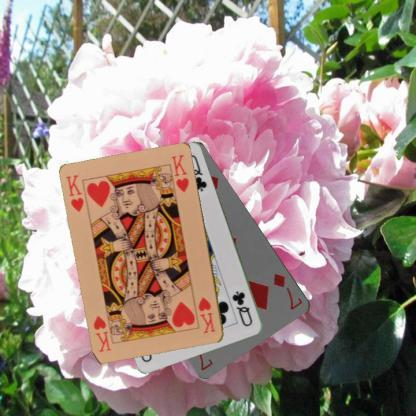7d: (271, 270, 304, 312)
Kh: (196, 294, 218, 336), (64, 172, 86, 214)
Qc: (230, 288, 256, 328)
